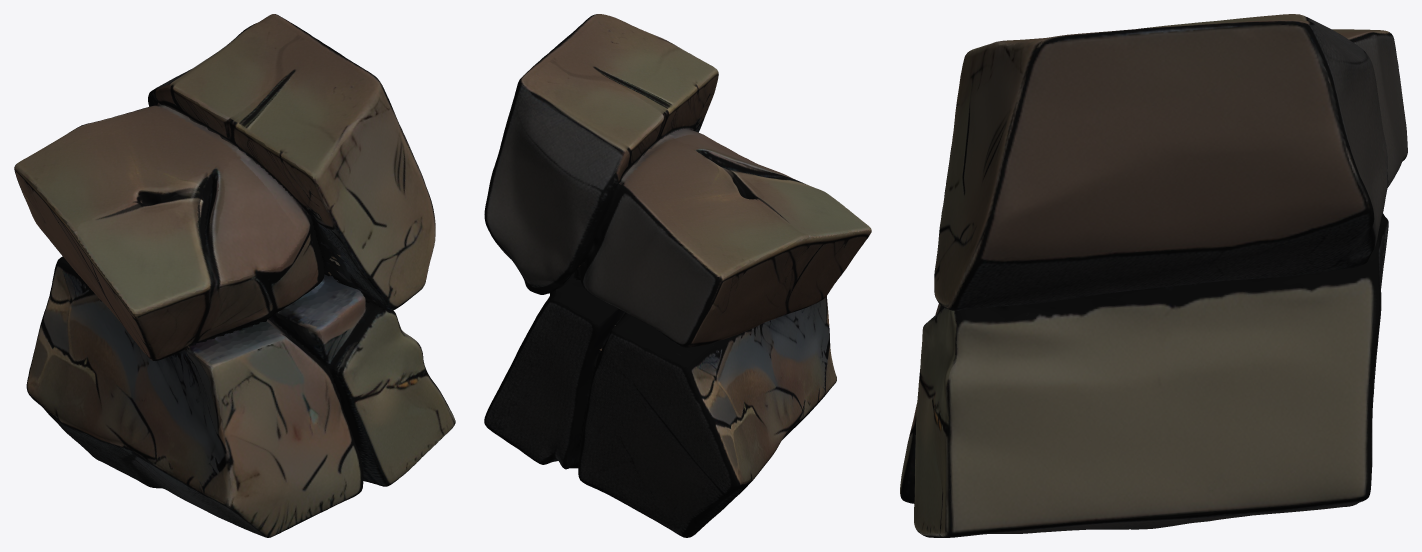
The model's file is rock.glb.
3 renders of one model, left to right at view 1: azimuth 30°, elevation 25°; view 2: azimuth 150°, elevation 25°; view 3: azimuth 270°, elevation 25°, orthographic. The views are drawn at different scales.
Visible parts, largest first — view 1: tmpixxpmnlr.ply; view 2: tmpixxpmnlr.ply; view 3: tmpixxpmnlr.ply.
Boxes of the visible parts, x1,y1,x2,y2 form: tmpixxpmnlr.ply: [14, 14, 455, 537]; tmpixxpmnlr.ply: [484, 14, 871, 537]; tmpixxpmnlr.ply: [900, 14, 1407, 537].
Bounding box in the file's own units: 1.52 × 1.96 × 1.55.
Materials: 1 (1 with a texture image).
